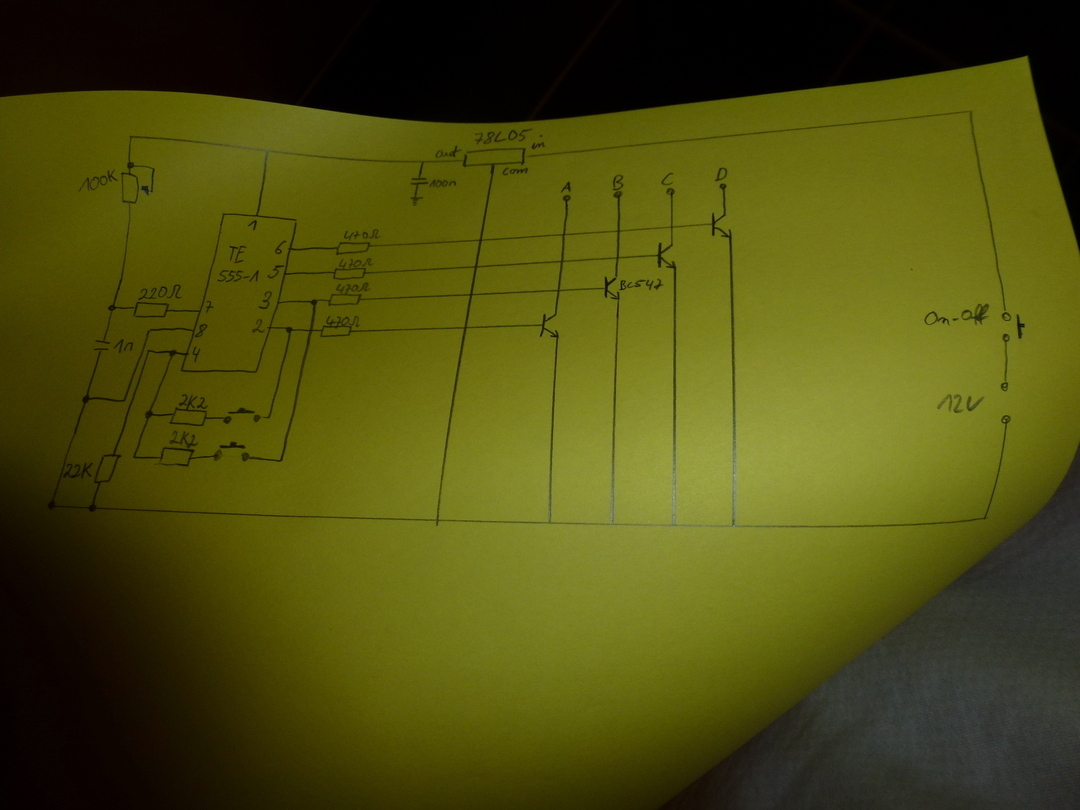capacitor.unpolarized: (92, 338, 111, 353), (409, 175, 429, 187)
crossover: (613, 253, 624, 263), (307, 326, 316, 336), (472, 263, 482, 271), (461, 324, 470, 332), (476, 236, 485, 244), (560, 230, 569, 238), (555, 287, 564, 295), (467, 291, 477, 298), (558, 258, 568, 265), (614, 228, 625, 234), (667, 224, 676, 231)
gnd: (409, 194, 424, 208)
integrated_cricuit.ne555: (180, 212, 298, 374)
junction: (43, 497, 58, 512), (86, 502, 100, 515), (80, 392, 91, 405), (431, 515, 443, 526), (106, 302, 117, 314), (668, 519, 679, 530), (545, 517, 556, 528), (728, 520, 738, 531), (607, 518, 618, 528), (126, 160, 137, 170), (262, 146, 273, 156), (285, 325, 295, 336), (144, 409, 154, 419), (967, 106, 977, 116), (168, 347, 177, 358), (276, 455, 285, 465), (131, 452, 139, 462), (117, 395, 126, 403), (145, 326, 153, 335), (128, 133, 136, 142), (149, 164, 158, 172), (310, 298, 318, 307), (265, 413, 274, 421), (145, 348, 153, 356), (980, 514, 988, 522), (419, 158, 427, 166)
resistor: (93, 452, 122, 485), (169, 406, 208, 428), (157, 446, 195, 468), (131, 301, 171, 320), (335, 241, 371, 255), (327, 293, 362, 307), (332, 267, 367, 280), (320, 325, 353, 338)
resistor.adjustable: (120, 171, 156, 208)
switch: (1000, 310, 1027, 343), (213, 441, 250, 462), (223, 407, 265, 425)
terminal: (999, 413, 1012, 429), (998, 378, 1011, 392), (665, 187, 676, 198), (612, 190, 623, 201), (718, 182, 729, 191), (562, 194, 572, 203)
text: (216, 245, 260, 284), (924, 302, 991, 326), (936, 393, 985, 413), (474, 128, 531, 145), (78, 169, 118, 192), (138, 284, 182, 301), (619, 278, 664, 292), (169, 430, 198, 449), (178, 393, 208, 410), (63, 462, 92, 479), (326, 314, 359, 328), (343, 229, 380, 241), (338, 257, 373, 269), (335, 282, 370, 294), (435, 145, 461, 158), (113, 338, 134, 354), (257, 290, 273, 310), (429, 178, 457, 188), (266, 264, 284, 279), (502, 167, 529, 176), (531, 134, 546, 150), (611, 174, 625, 190), (714, 166, 728, 182), (194, 323, 208, 339), (660, 172, 675, 186), (274, 239, 287, 255), (251, 318, 264, 334), (191, 345, 201, 363), (560, 180, 572, 194), (247, 218, 259, 232), (203, 299, 214, 314)
transistor: (710, 210, 734, 239), (656, 241, 678, 270), (539, 311, 561, 339), (603, 274, 622, 301)
voltage.dc_regulator: (462, 146, 528, 168)
